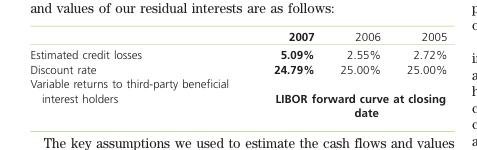table: (29, 28, 446, 118)
table column: (29, 28, 250, 118), (250, 28, 326, 118), (326, 28, 393, 118), (393, 28, 446, 118)
table column header: (29, 28, 446, 44)
table row: (29, 76, 446, 118), (29, 44, 446, 61), (29, 28, 446, 44), (29, 61, 446, 76)
table spanning cell: (250, 76, 446, 118)
